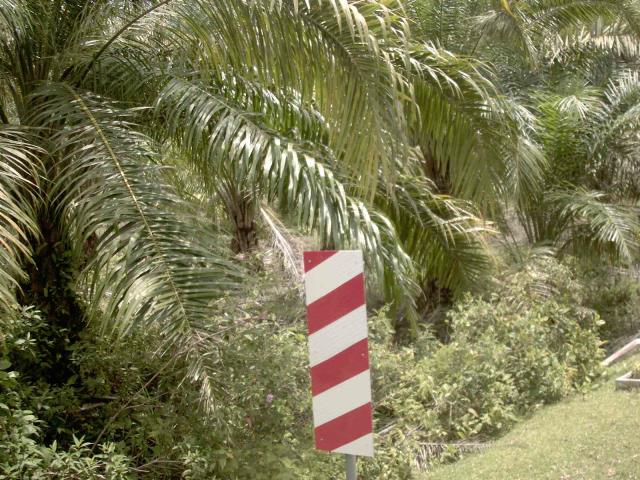traffic_sign: (287, 233, 389, 464)
